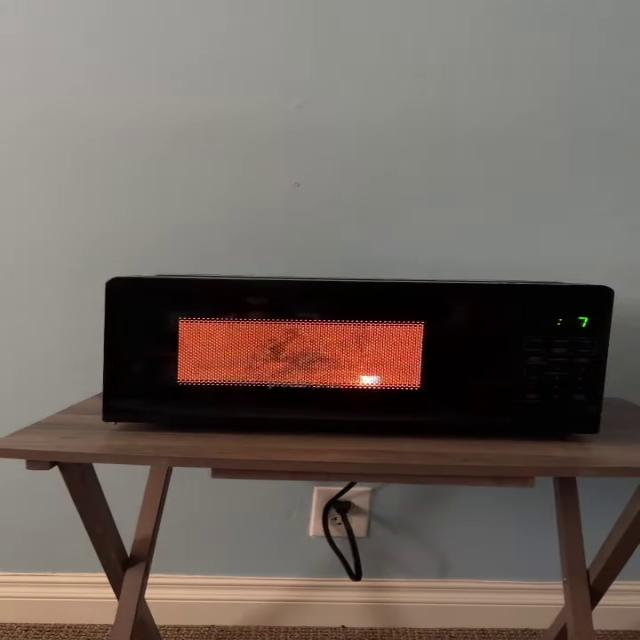fire: (143, 325, 445, 394)
